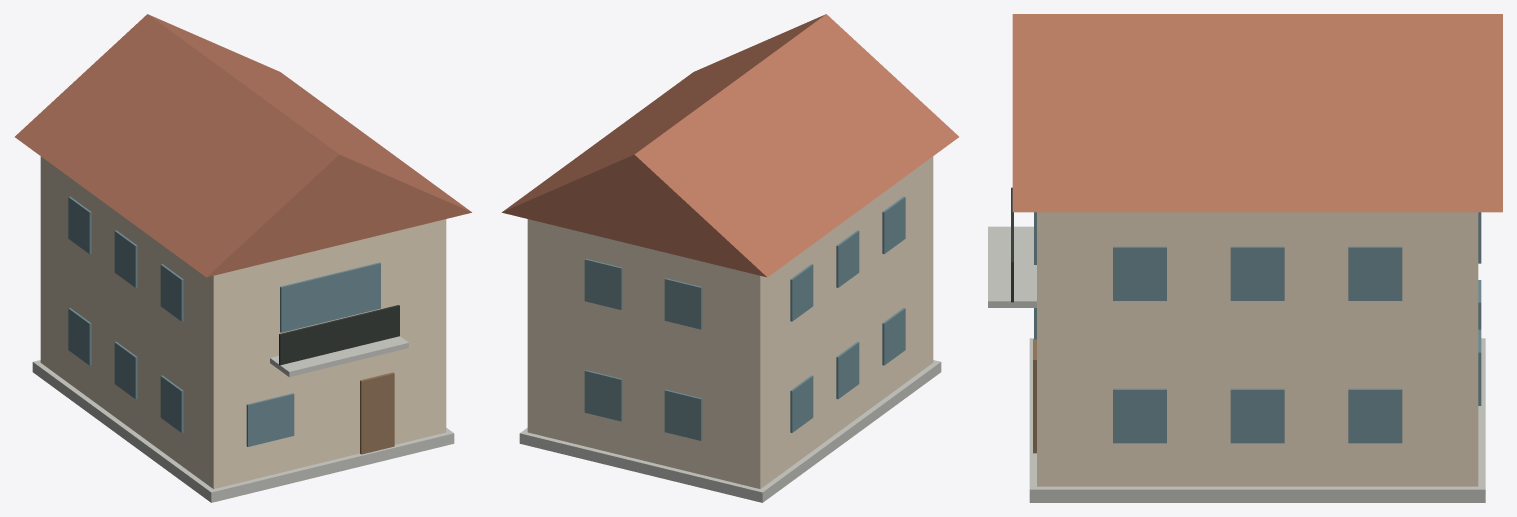
The model's file is house-two-storey.glb.
3 views of the same model, side by side, from view 1: azimuth 30°, elevation 25°; view 2: azimuth 150°, elevation 25°; view 3: azimuth 270°, elevation 25° (orthographic). The views are drawn at different scales.
Visible parts, largest first — view 1: walls, roof; view 2: walls, roof; view 3: walls, roof.
Boxes of the visible parts, left/top/right/bottom form: walls: left=32, top=156, right=454, bottom=502; roof: left=15, top=14, right=471, bottom=277; walls: left=519, top=156, right=941, bottom=502; roof: left=502, top=14, right=958, bottom=277; walls: left=988, top=187, right=1485, bottom=502; roof: left=1012, top=14, right=1502, bottom=212.
Bounding box in the file's own units: 8 × 9.3 × 10.5.
